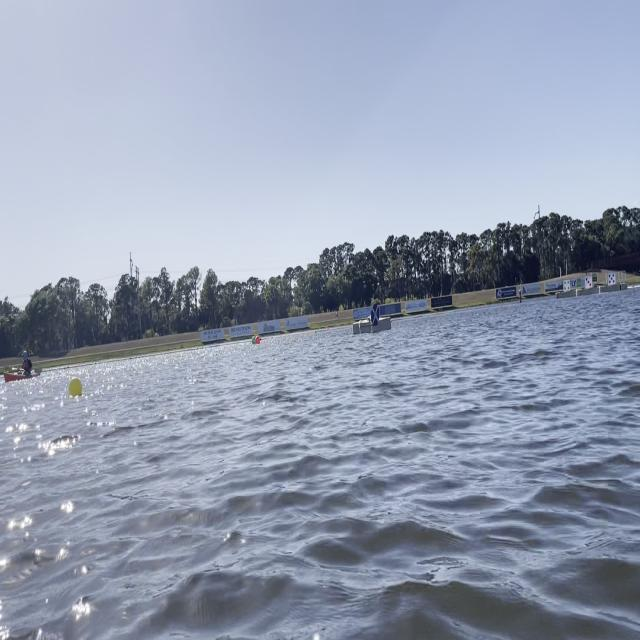buoy: (68, 371, 87, 407), (256, 334, 260, 347), (251, 334, 256, 344)
